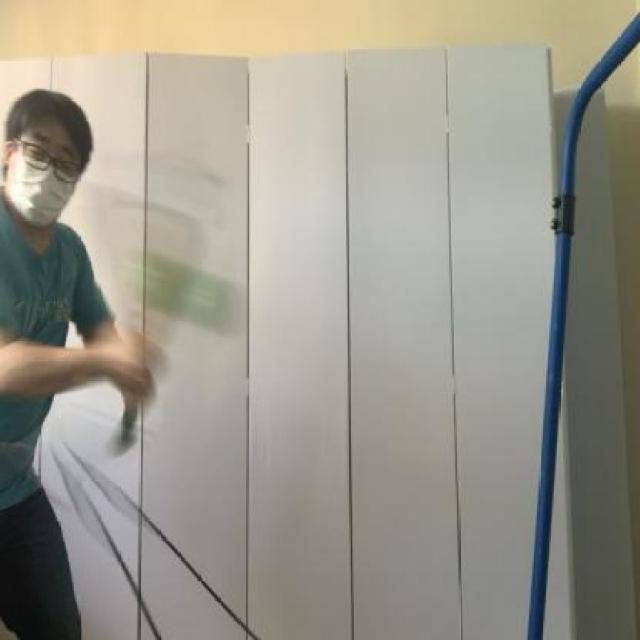baseball: (136, 264, 262, 344)
